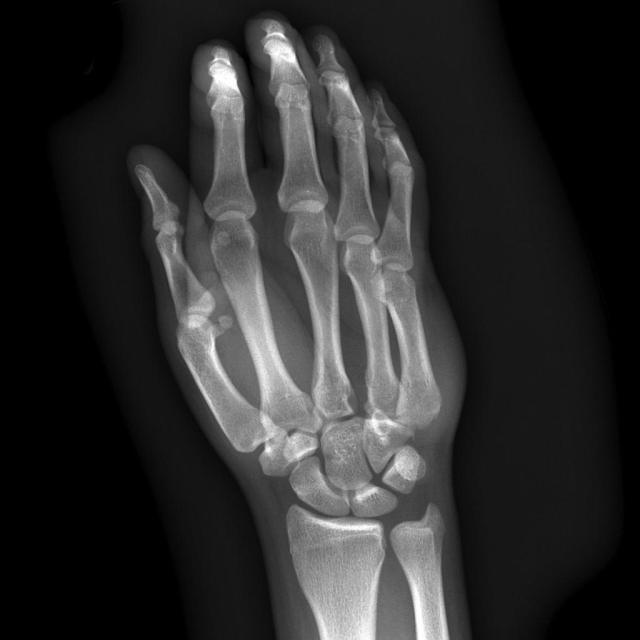Fracture: (362, 228, 433, 327)
